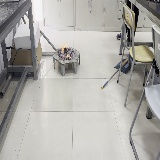fire: (61, 44, 68, 51), (67, 54, 69, 58)
